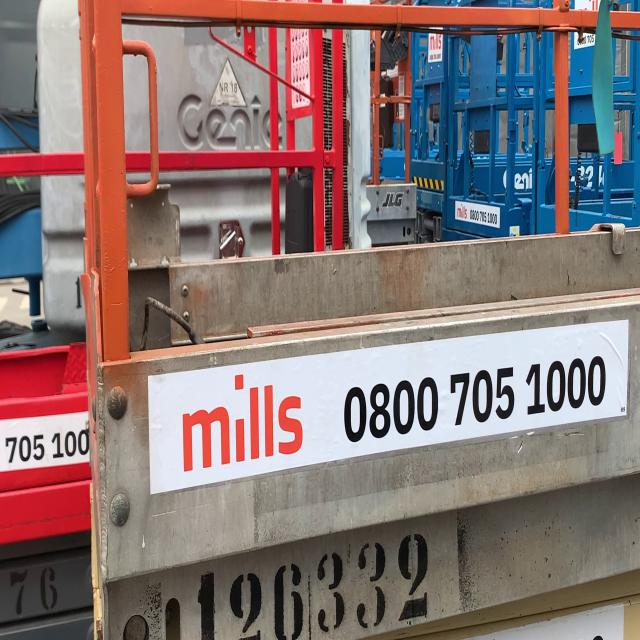Adesivo Longo: (145, 313, 630, 498)
